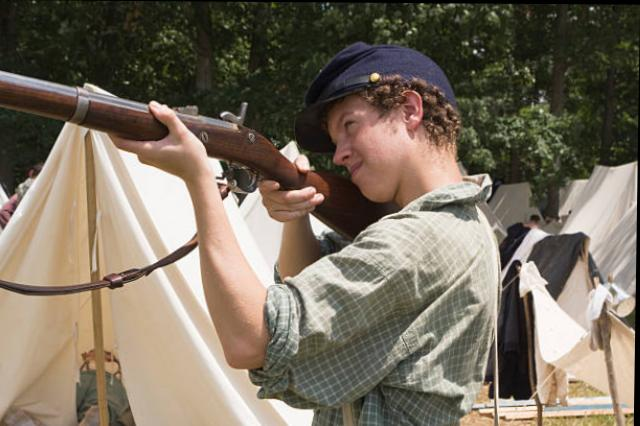tank: (199, 50, 497, 402)
